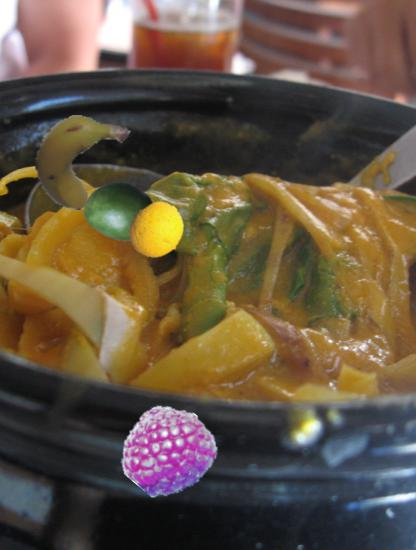Banana: (35, 115, 131, 211)
Cantaloupe: (128, 201, 187, 260)
Mango: (84, 175, 156, 247)
Raspberry: (122, 405, 214, 497)
